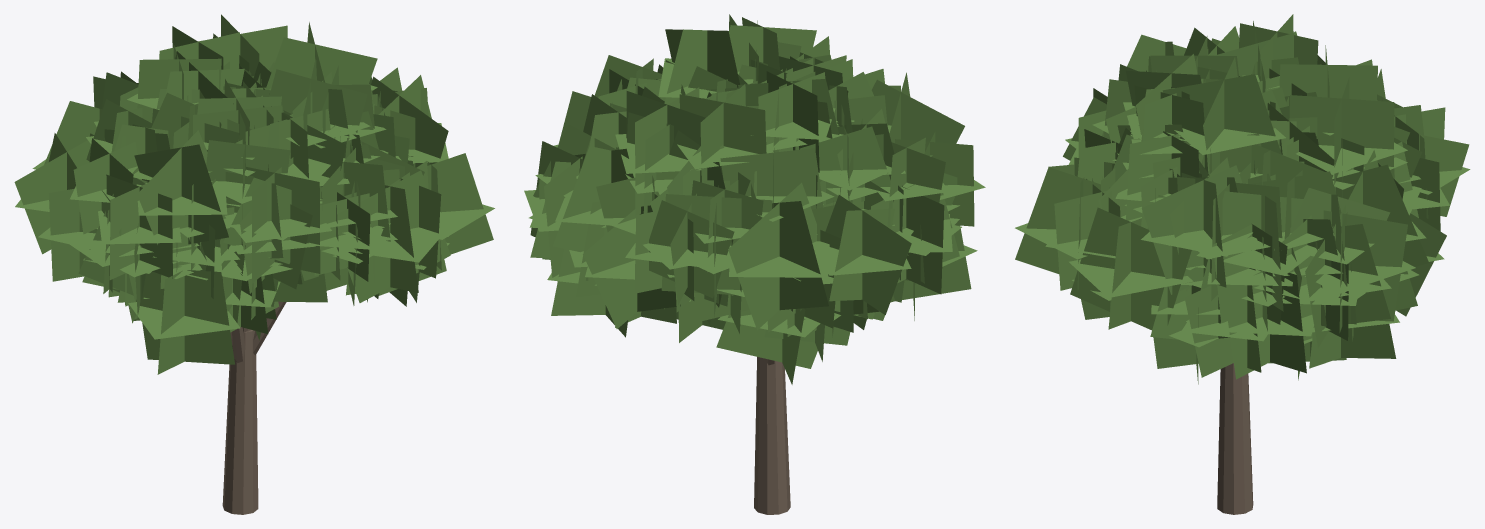
Rendered from SM_Tree_Maple.fbx.
The picture shows the model from 3 angles, left to right: view 1: azimuth 30°, elevation 25°; view 2: azimuth 150°, elevation 25°; view 3: azimuth 270°, elevation 25°; orthographic projection. The views are drawn at different scales.
Parts seen in each view (by area): view 1: SM_Tree_Maple; view 2: SM_Tree_Maple; view 3: SM_Tree_Maple.
Part boxes in pixels (left/top/right/bottom): SM_Tree_Maple: left=14, top=14, right=494, bottom=514; SM_Tree_Maple: left=524, top=14, right=985, bottom=514; SM_Tree_Maple: left=1015, top=14, right=1470, bottom=514.
Size of the model in its own units: 7.83 by 7.97 by 8.94.
